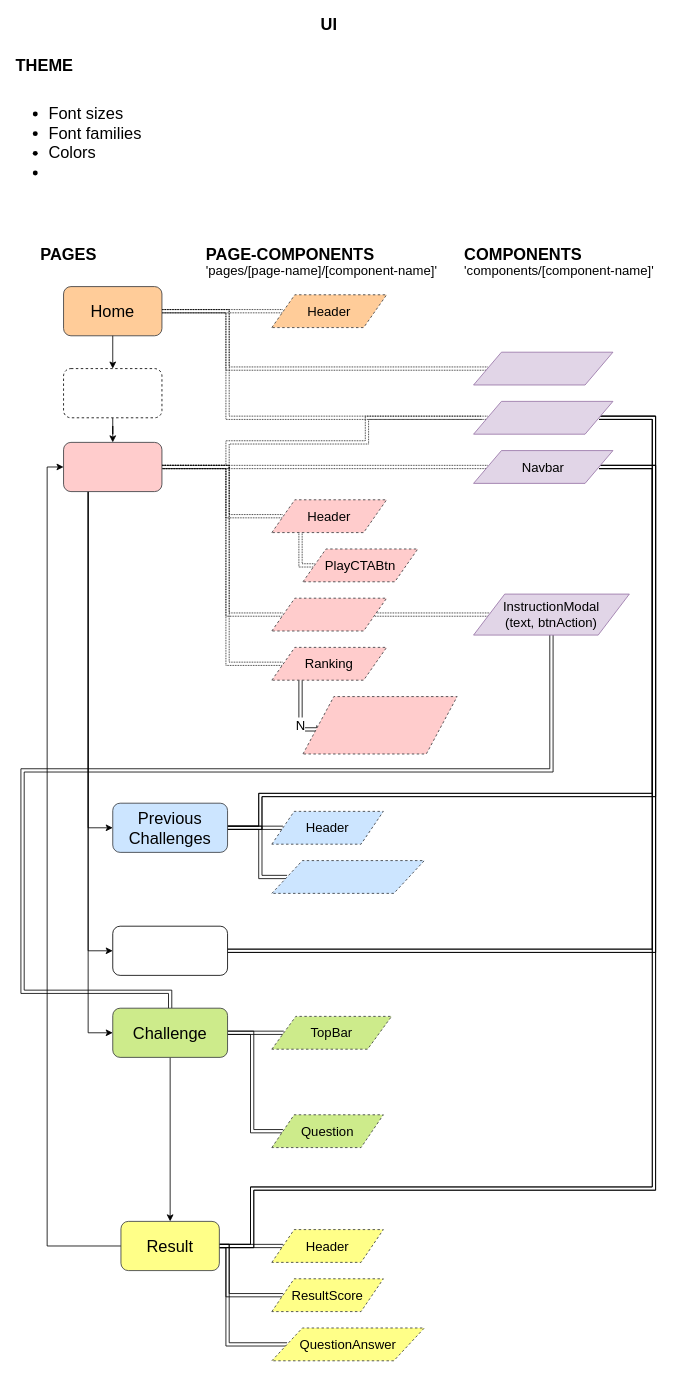
Image size: 681x1375. Some labels were removed from this diagram. Here are the shapes that lost their labels. From the top down, the box of each, then its label:
(473, 351, 613, 385): FBLoginButton
(63, 368, 162, 418): Login Modal
(473, 401, 613, 434): Footer
(63, 442, 162, 492): Dashboard
(271, 597, 387, 631): PlayerScore
(302, 696, 457, 754): RankingPosition (pos, picture, name, score)
(271, 860, 424, 893): ChallengesList
(112, 925, 228, 975): My Info
